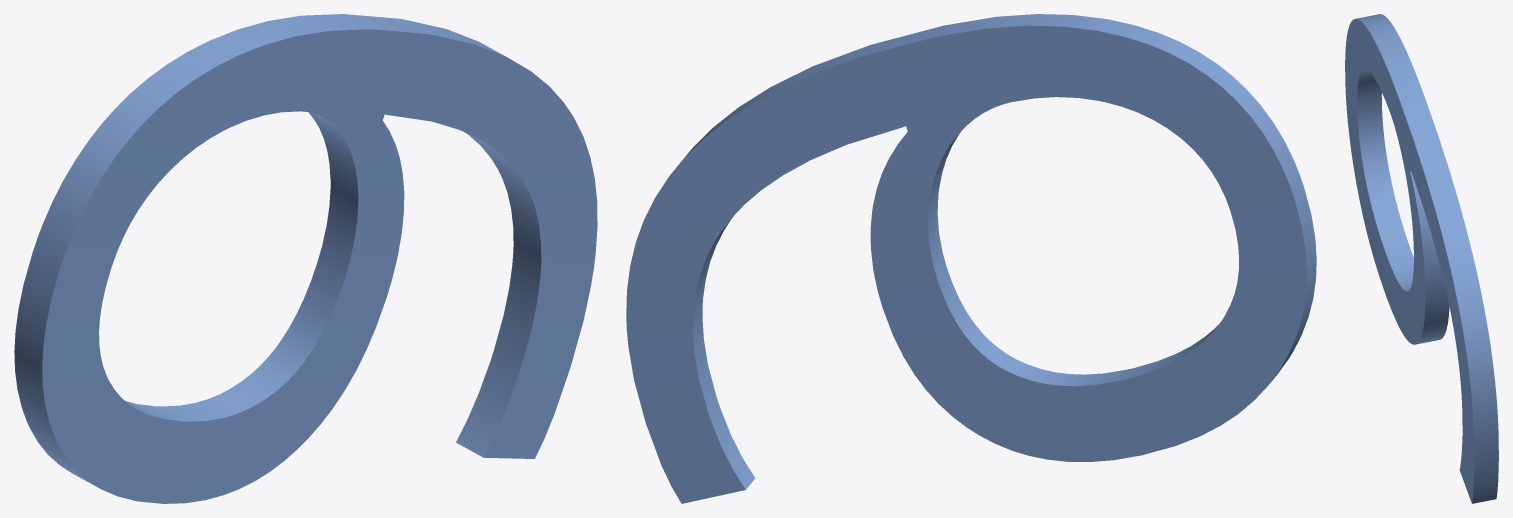
File: Number_9.gltf
The picture shows the model from 3 angles, left to right: view 1: azimuth 30°, elevation 25°; view 2: azimuth 150°, elevation 25°; view 3: azimuth 270°, elevation 25°; orthographic projection. The views are drawn at different scales.
Parts seen in each view (by area): view 1: Sub_3_Cell_2_1_Number_9; view 2: Sub_3_Cell_2_1_Number_9; view 3: Sub_3_Cell_2_1_Number_9.
Part boxes in pixels (box(x1,y1,x2,y2)): Sub_3_Cell_2_1_Number_9: box(14, 14, 597, 503); Sub_3_Cell_2_1_Number_9: box(626, 14, 1316, 503); Sub_3_Cell_2_1_Number_9: box(1345, 14, 1498, 503).
Bounding box in the file's own units: 0.0243 × 0.0196 × 0.00769.
